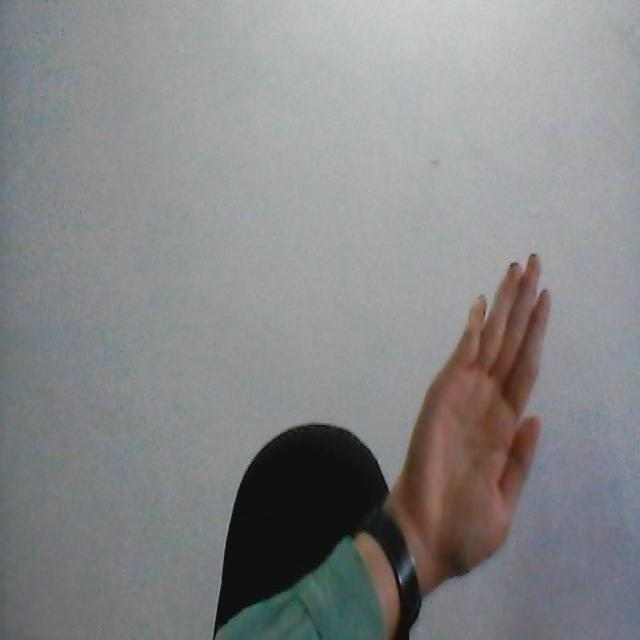hand: (379, 253, 555, 608)
